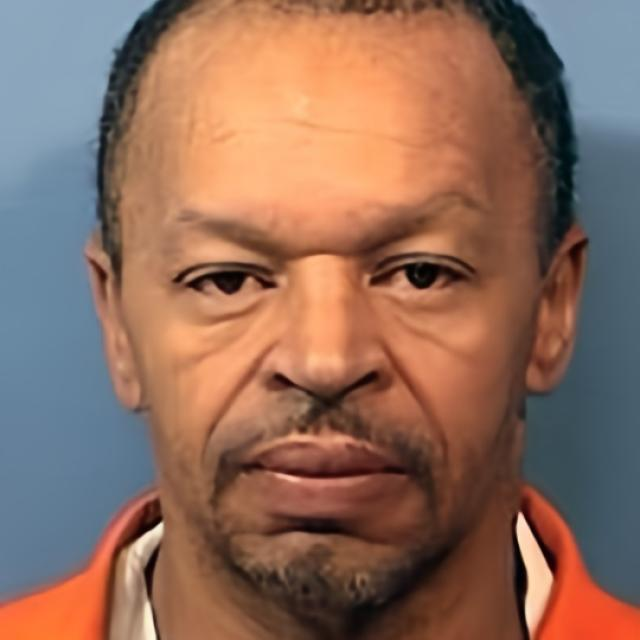disgust: (118, 11, 544, 626)
